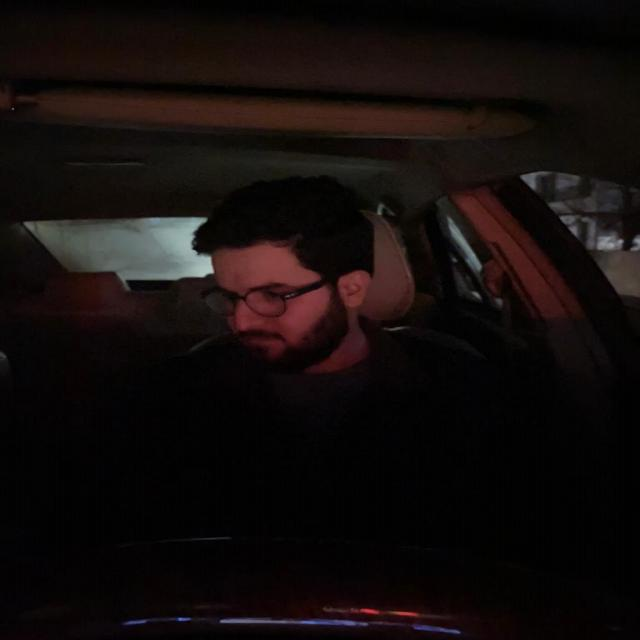drowsy: (196, 188, 370, 365)
